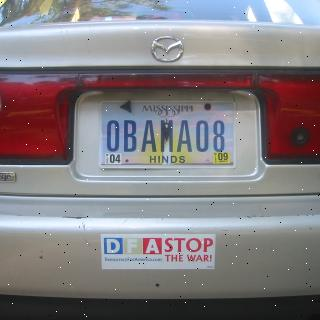license: (101, 98, 238, 167)
